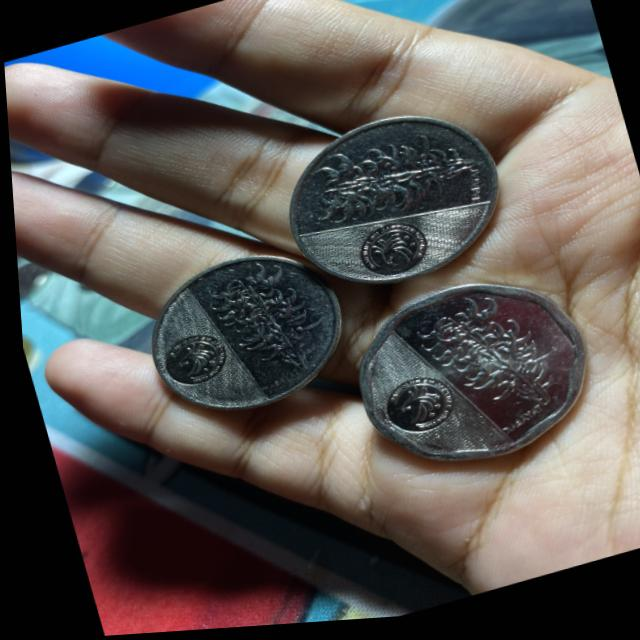5_New_Back: (417, 284, 561, 441), (301, 129, 474, 241), (204, 254, 329, 393)
